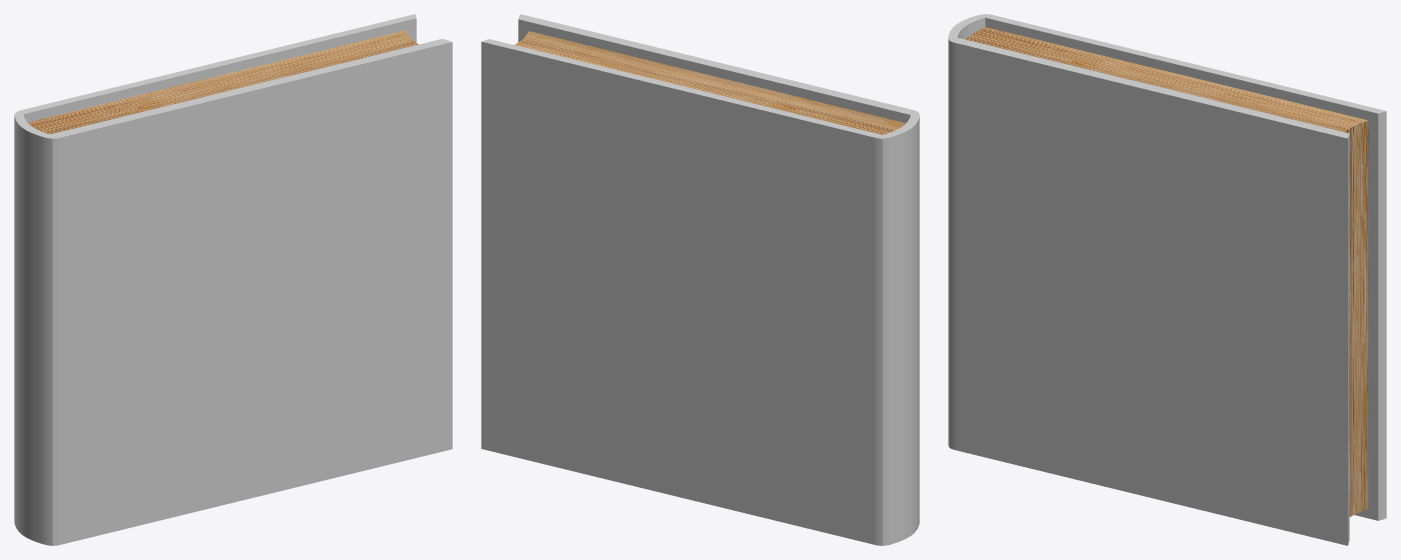
File: Book.fbx
The picture shows the model from 3 angles, left to right: view 1: azimuth 30°, elevation 25°; view 2: azimuth 150°, elevation 25°; view 3: azimuth 330°, elevation 25°; orthographic projection.
Visible parts, largest first — view 1: Cover, Pages; view 2: Cover, Pages; view 3: Cover, Pages.
Part boxes in pixels (x1,y1,x2,y2): Cover: (14, 14, 452, 545); Pages: (27, 30, 418, 134); Cover: (481, 14, 919, 545); Pages: (514, 31, 905, 134); Cover: (948, 14, 1386, 545); Pages: (965, 27, 1368, 516).
Bounding box in the file's own units: 211 × 200 × 33.82.
